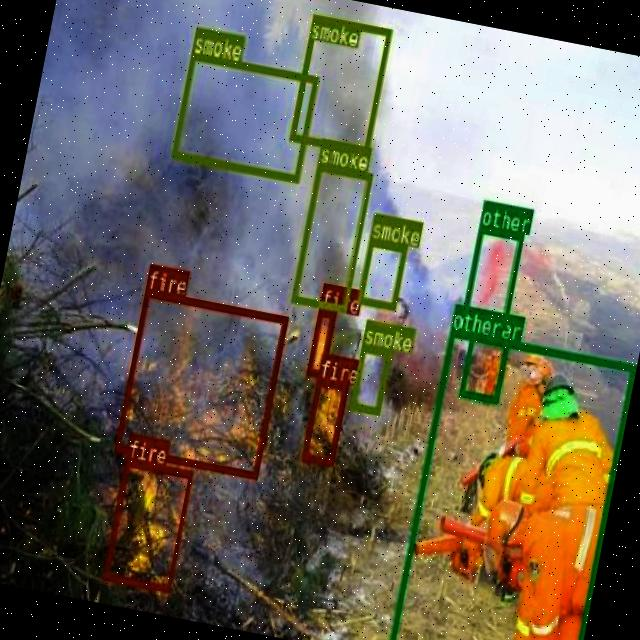fire: (114, 288, 289, 478), (101, 456, 192, 590), (301, 378, 349, 466), (306, 307, 336, 377)
smoke: (171, 50, 318, 182), (288, 13, 391, 154), (290, 162, 372, 310), (357, 238, 408, 310), (351, 344, 392, 414)
